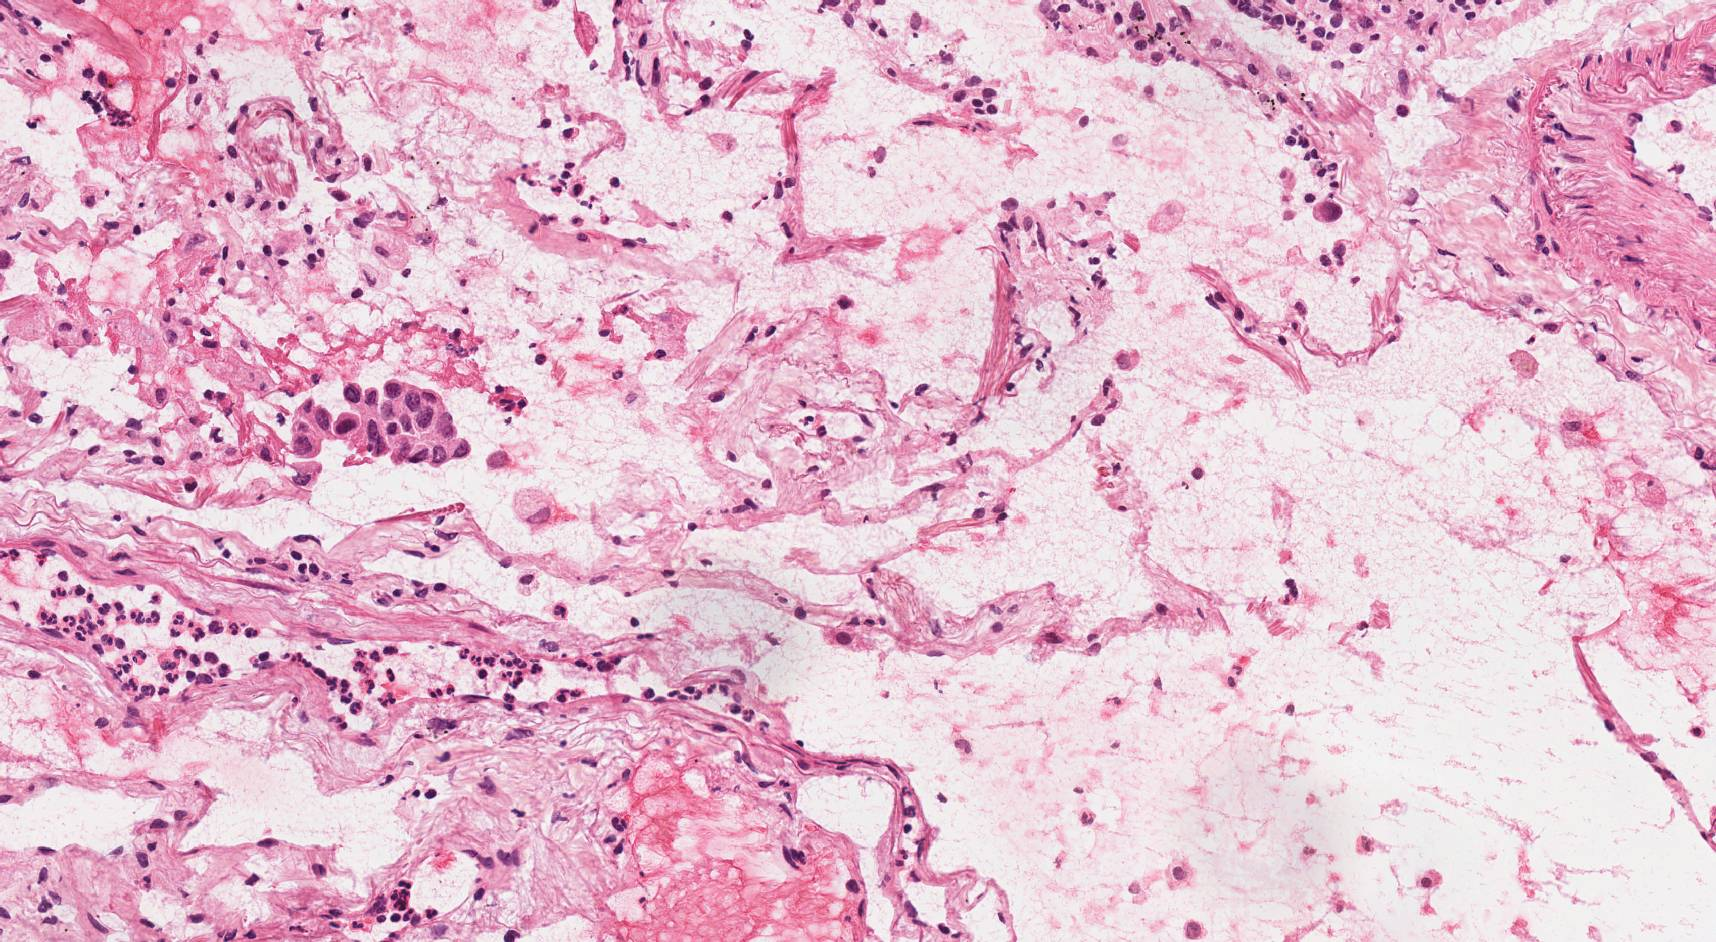stas: (288, 378, 472, 467)
